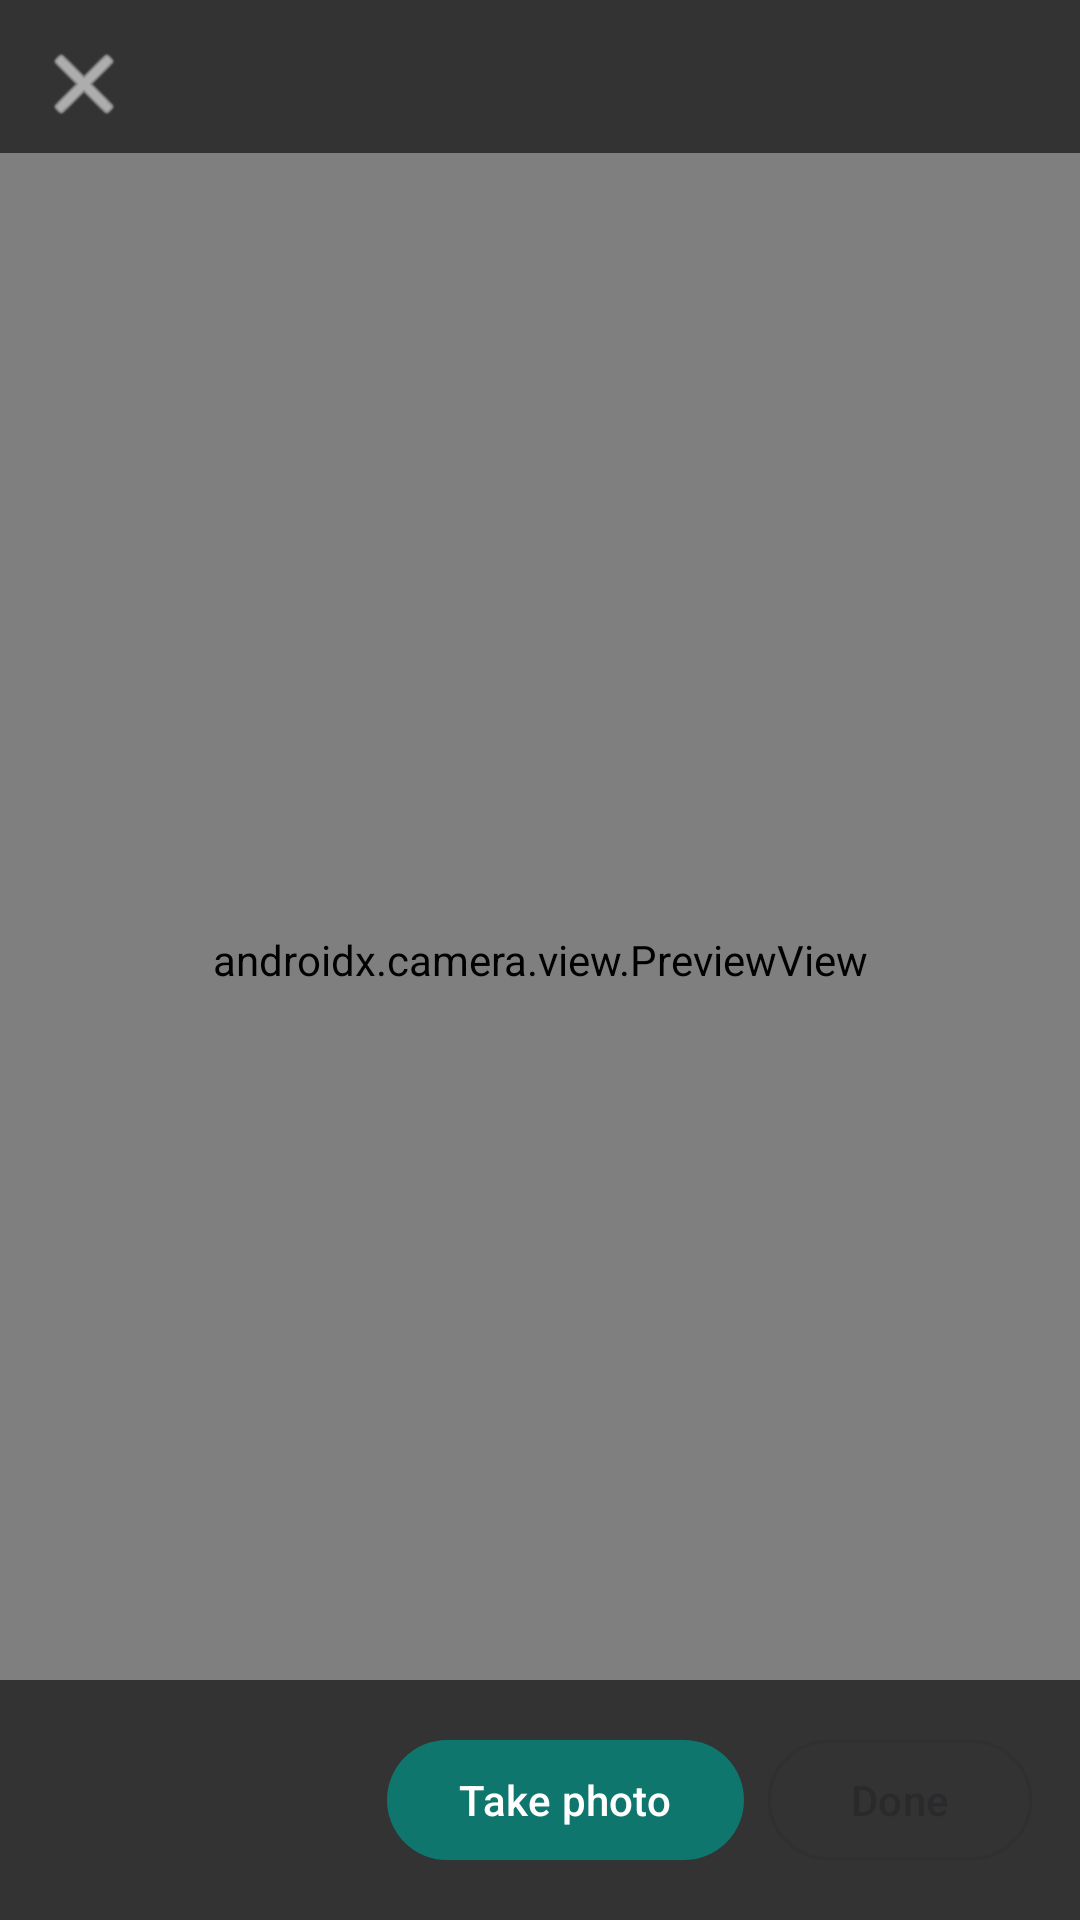

Where to tap for icons on this 1080 x 1920 app screen, as [x,y]:
Close: [84,84]
